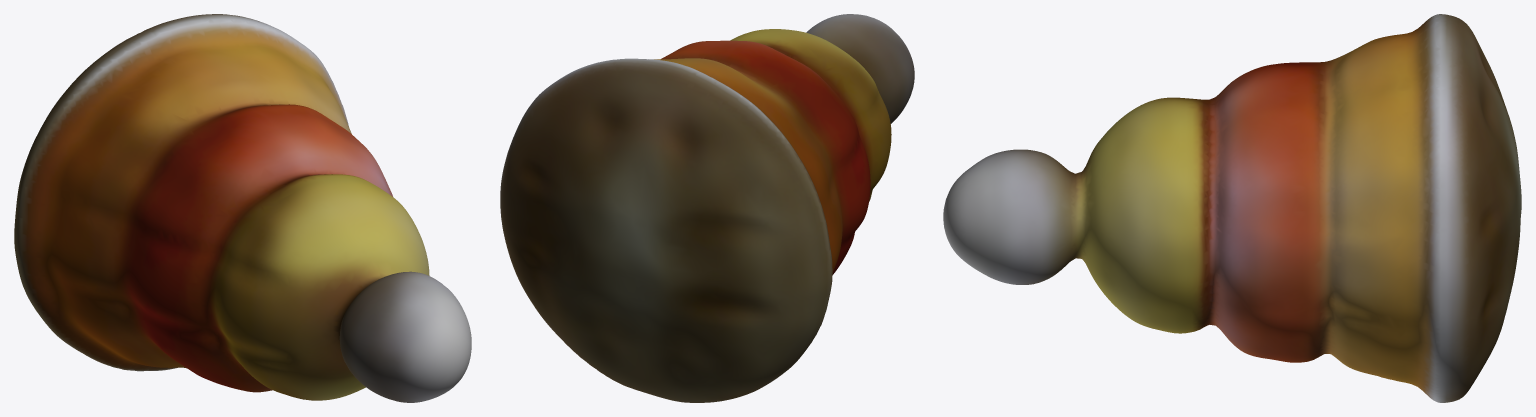
Rendered from chicken.glb.
3 views of the same model, side by side, from view 1: azimuth 30°, elevation 25°; view 2: azimuth 150°, elevation 25°; view 3: azimuth 270°, elevation 25° (orthographic). The views are drawn at different scales.
Bounding box in the file's own units: 0.6843 × 0.6716 × 0.9998.
